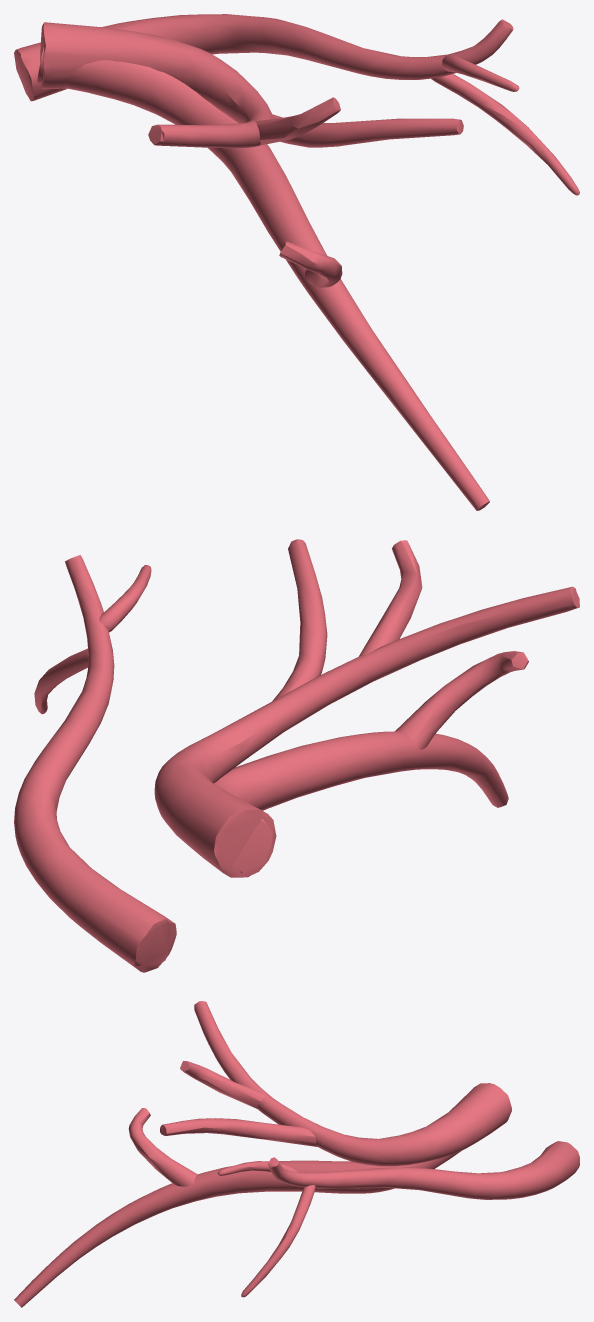
File: fma68131_cx141.glb
3 renders of one model, top to bottom at view 1: azimuth 30°, elevation 25°; view 2: azimuth 150°, elevation 25°; view 3: azimuth 270°, elevation 25°, orthographic. The views are drawn at different scales.
Parts seen in each view (by area): view 1: FMA68131_CX141; view 2: FMA68131_CX141; view 3: FMA68131_CX141.
Boxes of the visible parts, x1,y1,x2,y2 form: FMA68131_CX141: (14, 14, 579, 510); FMA68131_CX141: (14, 539, 579, 972); FMA68131_CX141: (14, 1001, 579, 1307).
Bounding box in the file's own units: 0.0624 × 0.0442 × 0.0946.
